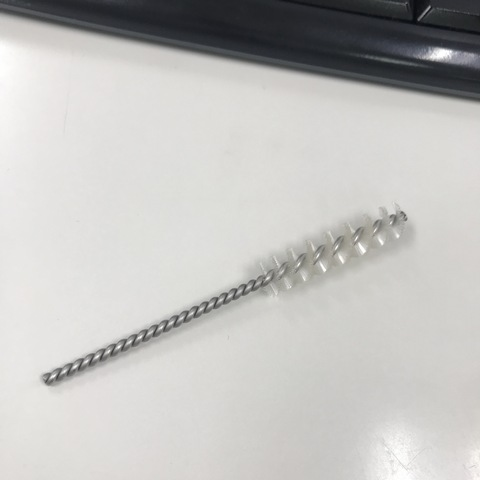Twist Brush-B: (40, 199, 410, 389)
